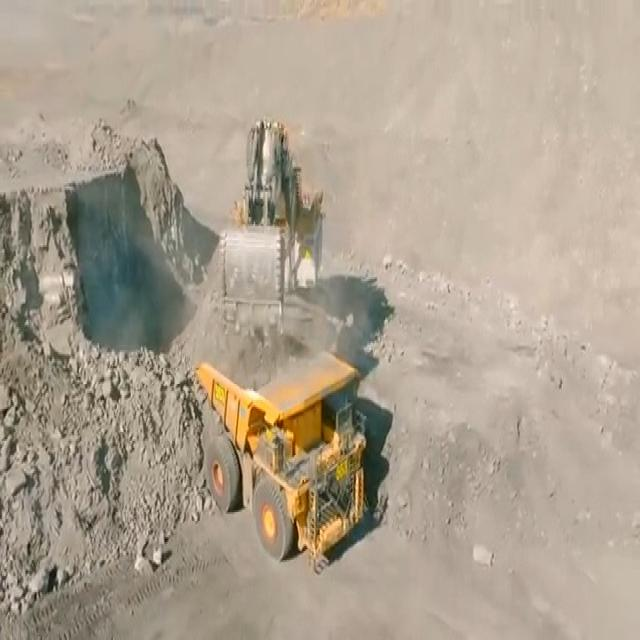dump_truck: (197, 342, 369, 557)
excavator: (226, 117, 320, 344)
